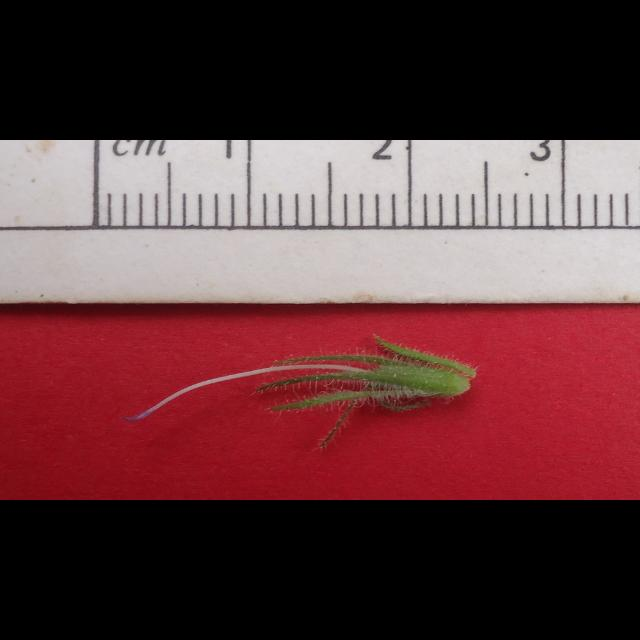Flower: (122, 336, 478, 452)
